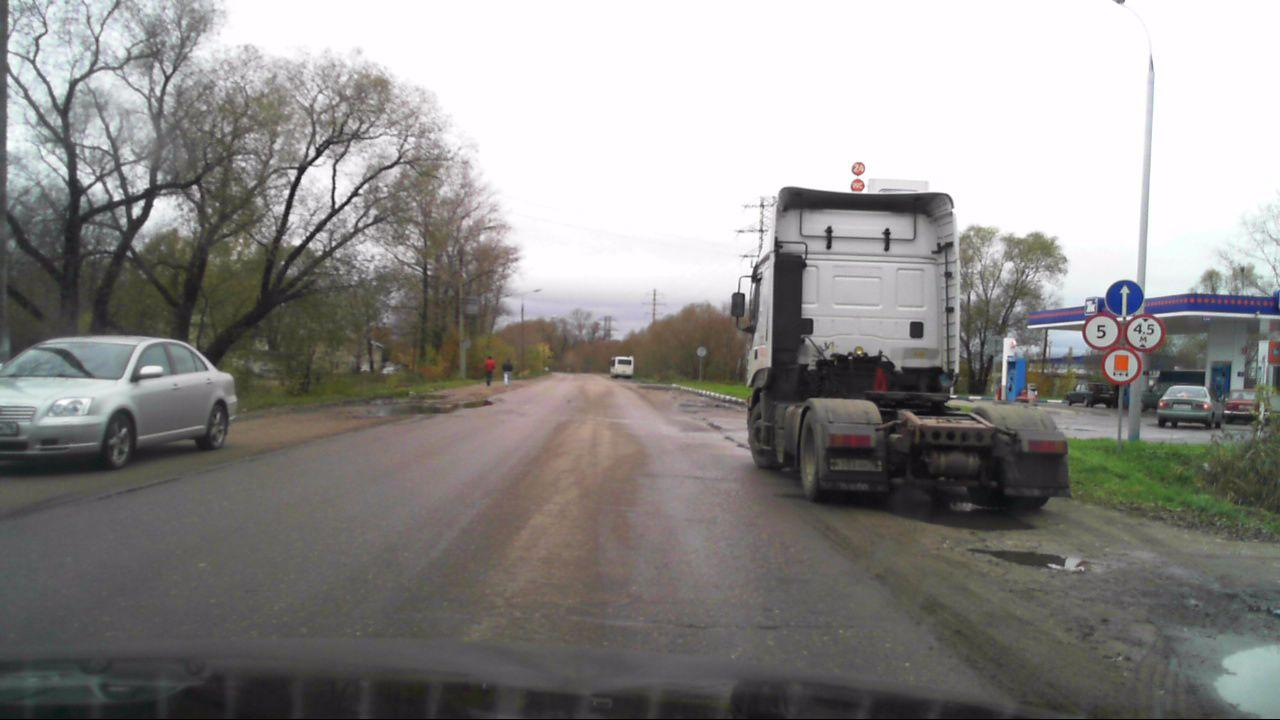3_13: (1124, 313, 1161, 351)
3_24: (1080, 313, 1121, 350)
3_32: (1102, 349, 1142, 384)
4_1_1: (1104, 279, 1143, 318)
